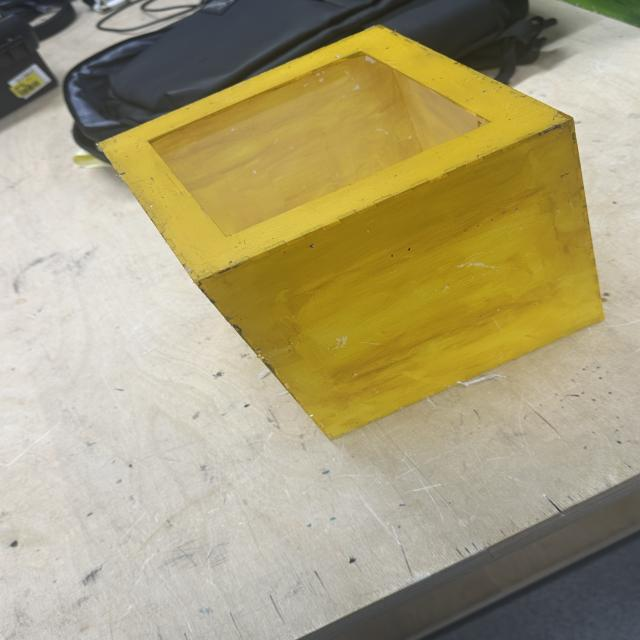yellow_bin: (96, 22, 606, 443)
